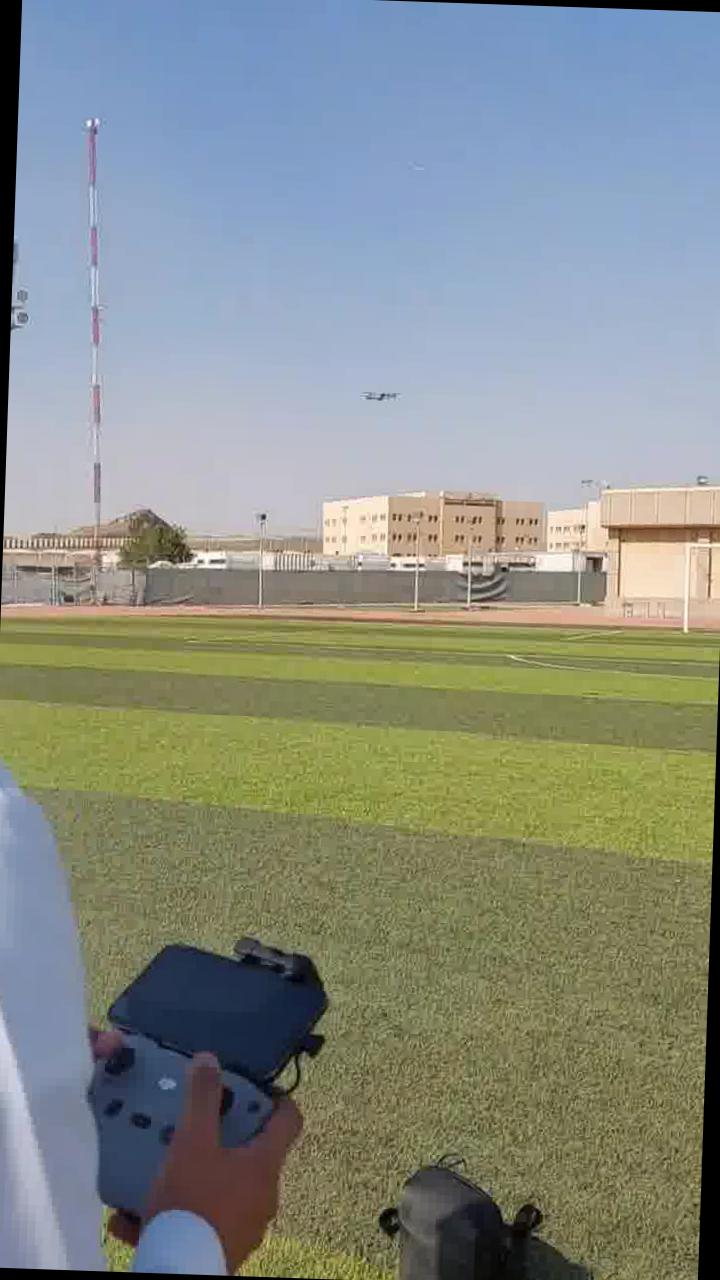drone: (358, 368, 418, 407)
